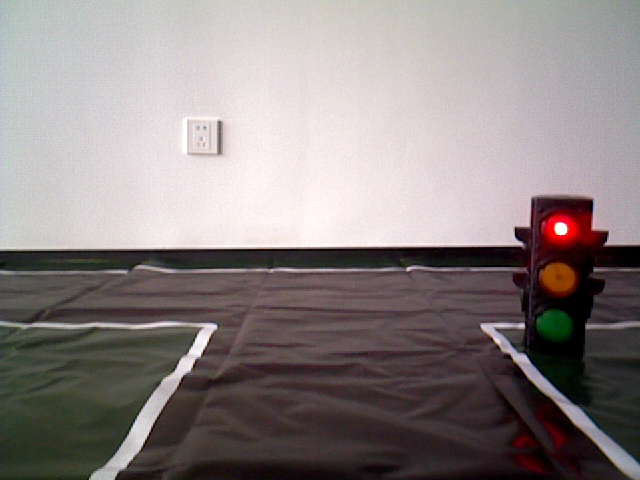red: (523, 198, 586, 354)
